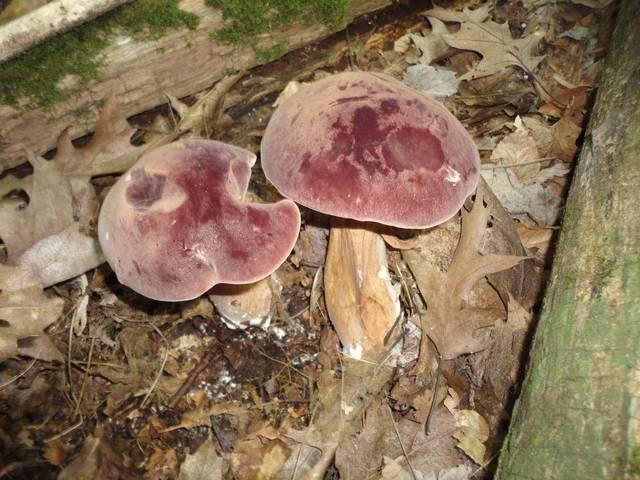Non-edible Mushroom: (258, 69, 481, 363), (95, 136, 301, 303)
